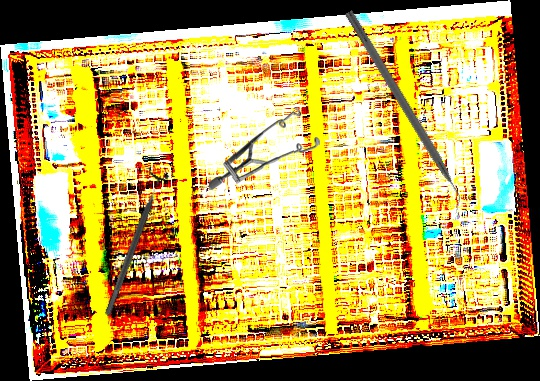Chopper: (333, 9, 471, 217)
Fixation Ring: (96, 165, 171, 320)
Speculum: (209, 105, 321, 192)
